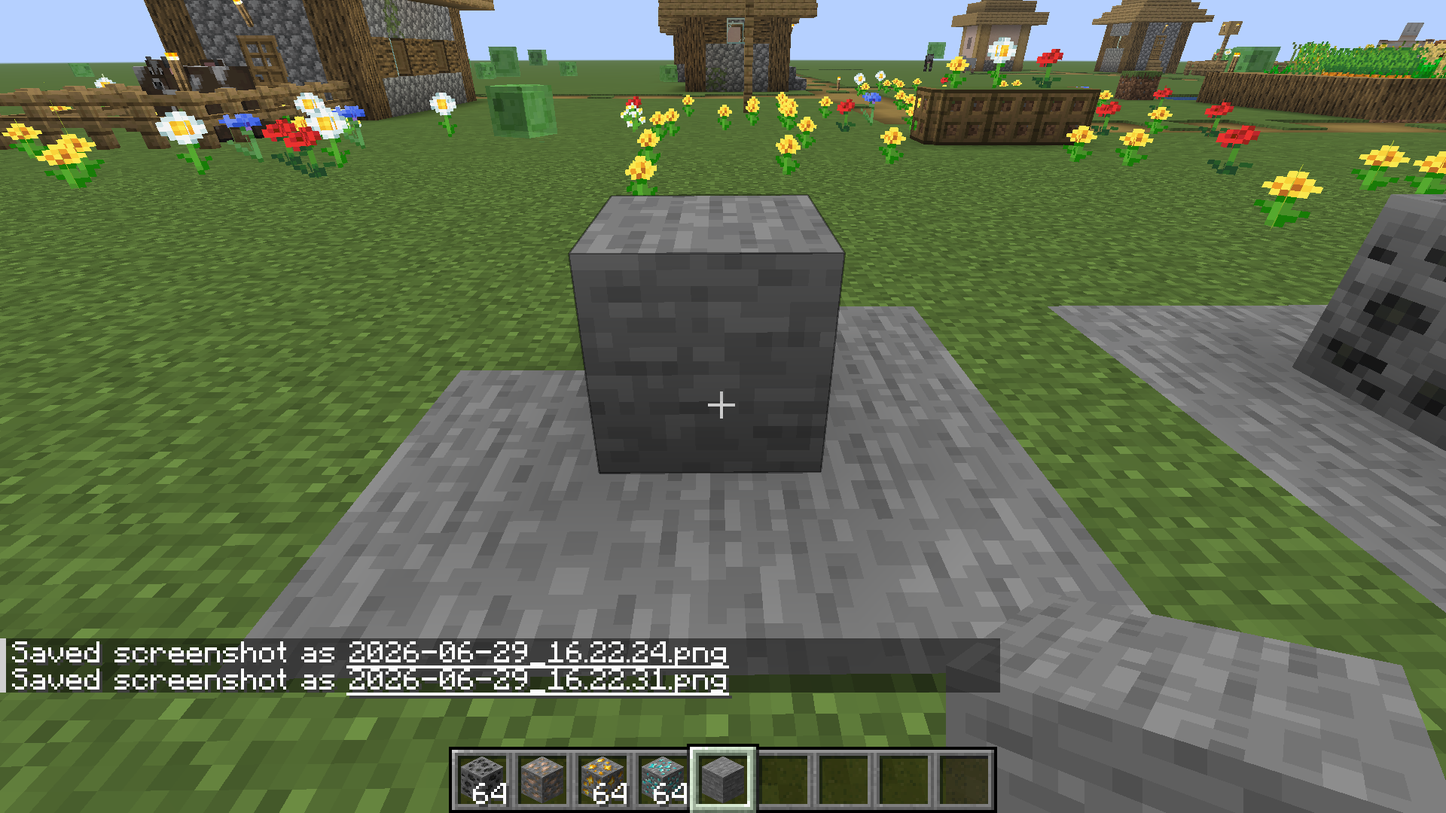coal ore: (1294, 188, 1445, 449)
stone: (575, 194, 847, 472)
